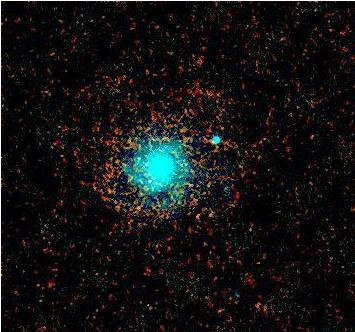star: (138, 122, 168, 152)
